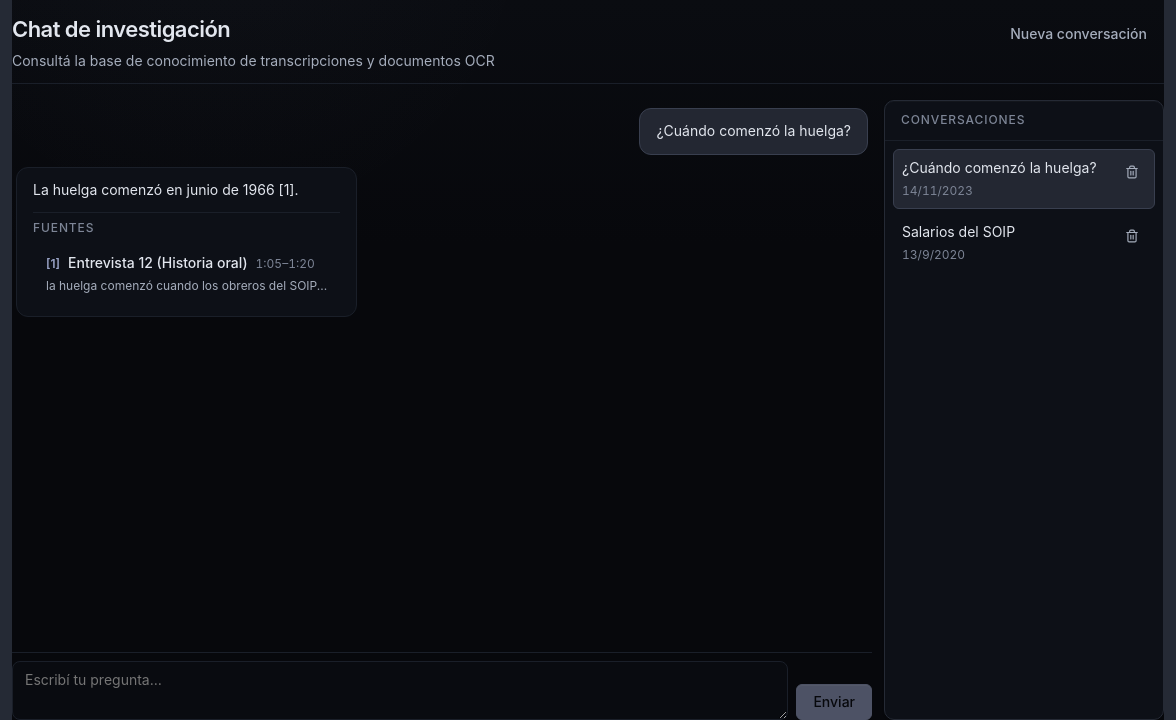
Test: RagChatView › switches conversations when a sidebar row is clicked
The image size is (1176, 720).
Check: the text "La huelga comenzó en junio de 1966 [1]." is shown, box [33,180,340,200]
Click the button "Salarios del SOIP 13/9/2020": (1004, 243) [894,214,1114,272]
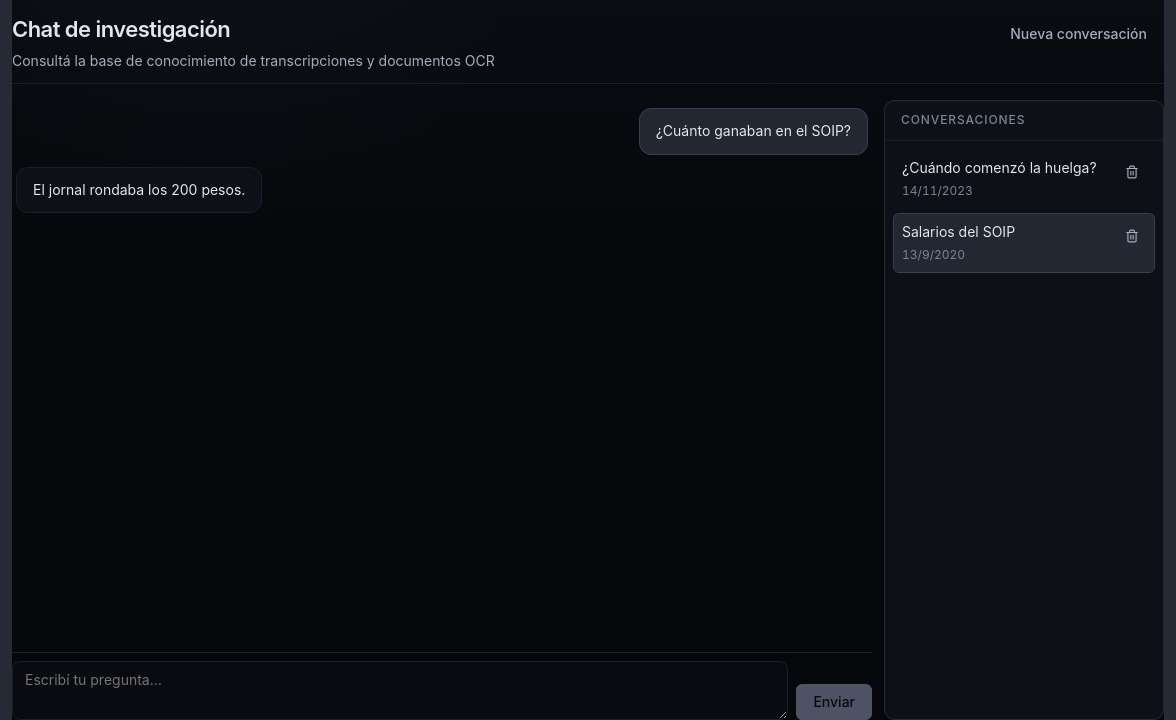
Check: the text "El jornal rondaba los 200 pesos." is shown, box [33,180,245,200]
Check: the text "La huelga comenzó en junio de 1966 [1]." is gone
